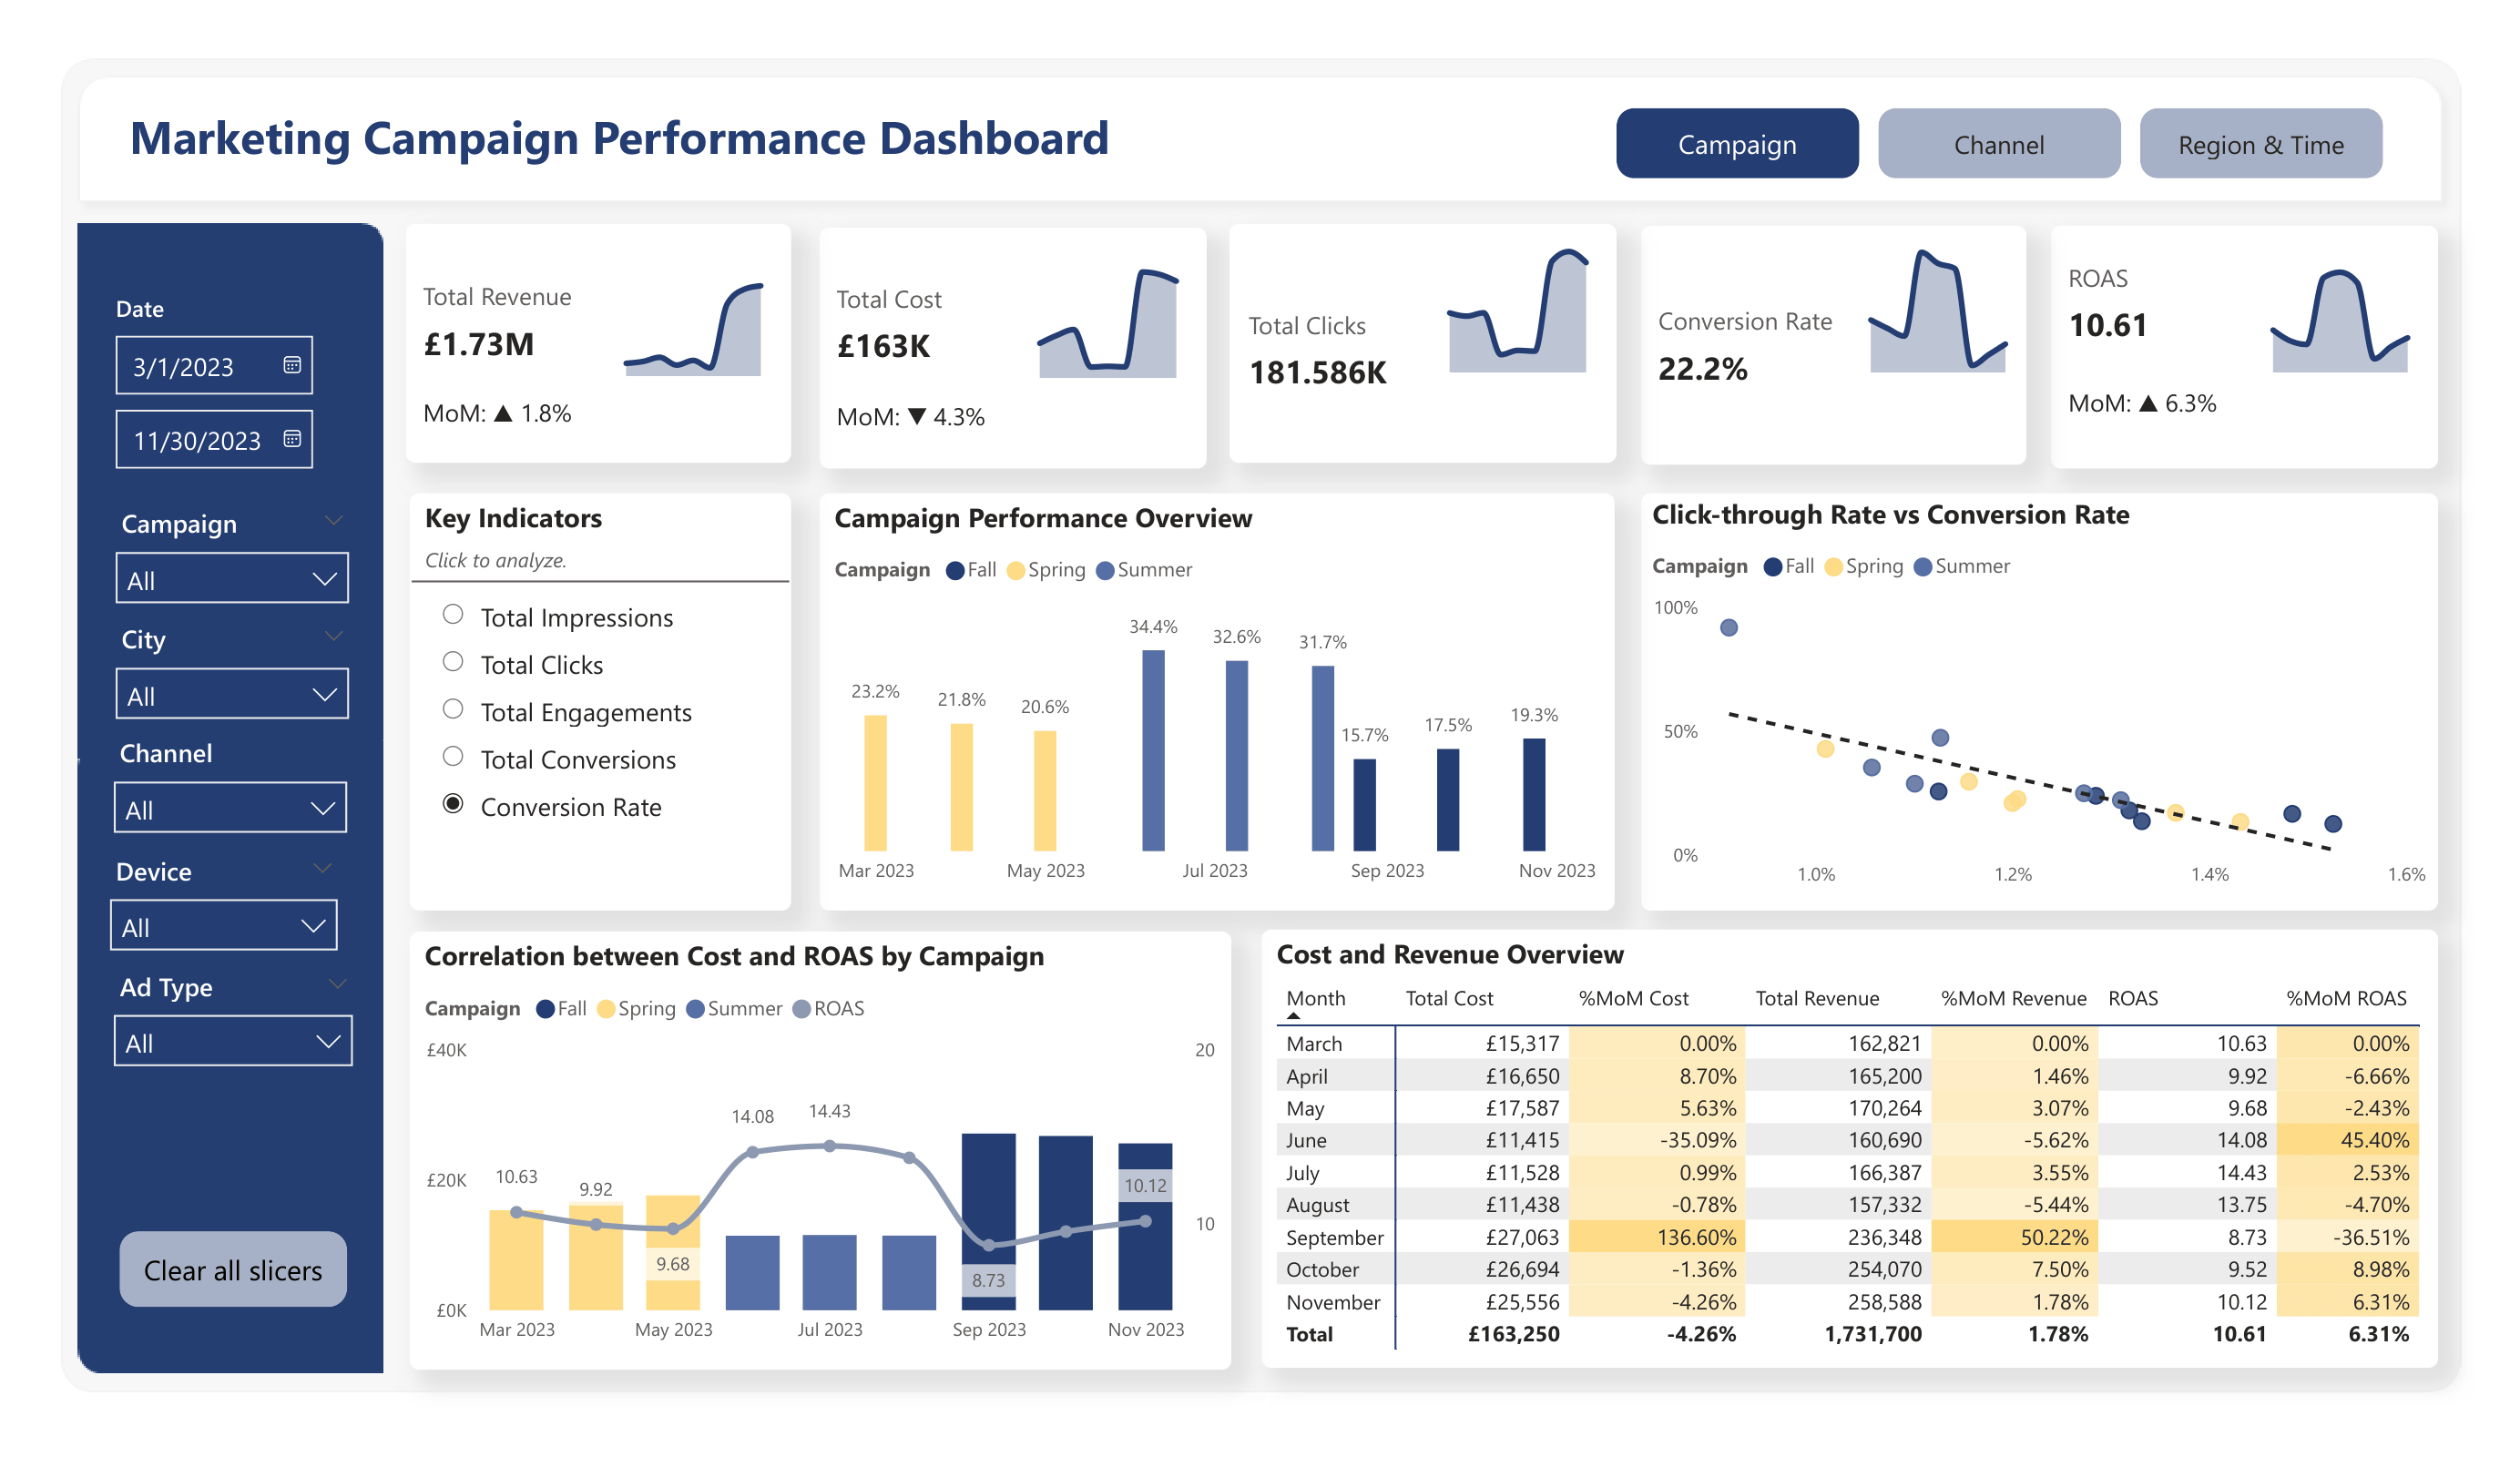

What the dashboard file says about the page in this screenshot:
{"tool":"powerbi","page":{"name":"Campaign","canvas":[1280,720],"ordinal":0},"visuals":[{"type":"textbox","title":"Title","box":[39,26,772.6,43.9],"z":0},{"type":"slicer","title":"Filter Shipping Partner","fields":{"Values":["dim_ad.Ad_Format"]},"box":[25.6,482.5,146.4,83],"z":0,"group":"g2"},{"type":"shape","box":[408.3,96,203.3,126.9],"z":1000},{"type":"slicer","title":"Filter Product Name","fields":{"Values":["dim_device.Device_Name"]},"box":[24,421.1,139.9,84.6],"z":1000,"group":"g2"},{"type":"pageNavigator","box":[827.9,32.5,405,37.4],"z":2000,"group":"g1"},{"type":"shape","box":[1057.3,94.7,204,128],"z":2000},{"type":"slicer","title":"Filter Product Category","fields":{"Values":["dim_channel.Channel_Name"]},"box":[25.6,359.7,143.1,84.6],"z":2000,"group":"g2"},{"type":"shape","box":[841.3,94.7,202.7,126.7],"z":3000},{"type":"slicer","title":"Filter Region Name","fields":{"Values":["dim_campaign.Campaign"]},"box":[27.3,238.5,143.1,84.6],"z":3000,"group":"g2"},{"type":"slicer","title":"Filter Region State","fields":{"Values":["dim_region.Region_Name"]},"box":[27.3,299.9,143.1,83],"z":4000,"group":"g2"},{"type":"actionButton","box":[39,624.6,120.4,40.7],"z":4000},{"type":"shape","box":[624.1,94,203.6,126.5],"z":5000},{"type":"group","id":"g1","title":"Navigation","box":[827.9,32.5,405,37.4],"z":6000},{"type":"shape","box":[189.9,94.2,202.9,126.1],"z":7000},{"type":"cardVisual","fields":{"Data":["Sum(fact_mkt.Total conversion value, GBP)"]},"box":[190.3,110.6,201.7,109],"z":8000},{"type":"cardVisual","fields":{"Data":["*Metrics.M_ROAS"]},"box":[1057.3,96,203.3,125.2],"z":9000},{"type":"cardVisual","fields":{"Data":["Sum(fact_mkt.Spend, GBP)"]},"box":[408.3,110.6,156.1,112.2],"z":10000},{"type":"cardVisual","fields":{"Data":["Sum(fact_mkt.Clicks)"]},"box":[624.6,96,156.1,126.9],"z":11000},{"type":"cardVisual","fields":{"Data":["*Metrics.M_ConversionRate"]},"box":[840.7,95.1,155.6,125.9],"z":12000},{"type":"areaChart","fields":{"Category":["dim_calendar.StartOfMonth"],"Y":["*Metrics.M_ROAS"]},"box":[1158.7,93.3,101.3,84],"z":13000},{"type":"areaChart","fields":{"Category":["dim_calendar.StartOfMonth"],"Y":["Sum(fact_mkt.Clicks)"]},"box":[725.3,93.3,101.3,84],"z":14000},{"type":"areaChart","fields":{"Category":["dim_calendar.StartOfMonth"],"Y":["*Metrics.M_ConversionRate"]},"box":[946.7,93.3,101.3,84],"z":15000},{"type":"areaChart","fields":{"Y":["Sum(fact_mkt.Total conversion value, GBP)"],"Category":["dim_calendar.StartOfMonth"]},"box":[290.7,94.7,101.3,84],"z":16000},{"type":"areaChart","fields":{"Y":["Sum(fact_mkt.Spend, GBP)"],"Category":["dim_calendar.StartOfMonth"]},"box":[509.3,96,101.3,84],"z":17000},{"type":"scatterChart","title":"Click-through Rate vs Conversion Rate","fields":{"Category":["fact_mkt.Concatenated value"],"Series":["dim_campaign.Campaign"],"X":["Avg(fact_mkt.CTR, %)"],"Y":["*Metrics.M_ConversionRate"]},"box":[840.7,235.6,420.3,220.3],"z":18000},{"type":"clusteredColumnChart","title":"Campaign Performance Overview","fields":{"Y":["*Key Indicators.M_TotalClicks"],"Category":["dim_calendar.StartOfMonth"],"Series":["dim_campaign.Campaign"]},"box":[408.5,235.6,418.6,220.3],"z":19000},{"type":"slicer","title":"Key Indicators","fields":{"Values":["Key Indicators 1.Key Indicators 1"]},"box":[191.5,235.6,201.7,220.3],"z":20000},{"type":"slicer","title":"Date","fields":{"Values":["dim_calendar.Date"]},"box":[24.1,125.1,149.6,143.1],"z":21000},{"type":"group","id":"g2","title":"Group 1","box":[24,238.5,148,326.9],"z":22000},{"type":"pivotTable","title":"Cost and Revenue Overview","fields":{"Rows":["dim_calendar.Date.Variation.Date Hierarchy.Month"],"Values":["Sum(fact_mkt.Spend, GBP)","*MoM_Metrics.M_TotalCost_MoM","*Metrics.M_TotalConversionValue","*MoM_Metrics.M_Total Revenue_MoM","*Metrics.M_ROAS","*MoM_Metrics.M_ROAS_MoM"]},"box":[640.7,466.1,620.3,230.5],"z":23000},{"type":"lineStackedColumnComboChart","title":"Correlation between Cost and ROAS by Campaign","fields":{"Y":["Sum(fact_mkt.Spend, GBP)"],"Y2":["*Metrics.M_ROAS"],"Category":["dim_calendar.StartOfMonth"],"Series":["dim_campaign.Campaign"]},"box":[191.9,466.8,432.7,231],"z":24000}]}

Visuals, with their boxes on the page's 1280x720 design canvas (x1, y1, x2, y2). These are canvas units, not pixel positions in the 2520x1457 screenshot, which may show the page scaled, cropped or inside an application window:
"Title" textbox: [left=39, top=26, right=812, bottom=70]
"Filter Shipping Partner" slicer: [left=26, top=482, right=172, bottom=566]
shape: [left=408, top=96, right=612, bottom=223]
"Filter Product Name" slicer: [left=24, top=421, right=164, bottom=506]
pageNavigator: [left=828, top=32, right=1233, bottom=70]
shape: [left=1057, top=95, right=1261, bottom=223]
"Filter Product Category" slicer: [left=26, top=360, right=169, bottom=444]
shape: [left=841, top=95, right=1044, bottom=221]
"Filter Region Name" slicer: [left=27, top=238, right=170, bottom=323]
"Filter Region State" slicer: [left=27, top=300, right=170, bottom=383]
actionButton: [left=39, top=625, right=159, bottom=665]
shape: [left=624, top=94, right=828, bottom=220]
"Navigation" group: [left=828, top=32, right=1233, bottom=70]
shape: [left=190, top=94, right=393, bottom=220]
cardVisual - Sum(fact_mkt.Total conversion value, GBP): [left=190, top=111, right=392, bottom=220]
cardVisual - *Metrics.M_ROAS: [left=1057, top=96, right=1261, bottom=221]
cardVisual - Sum(fact_mkt.Spend, GBP): [left=408, top=111, right=564, bottom=223]
cardVisual - Sum(fact_mkt.Clicks): [left=625, top=96, right=781, bottom=223]
cardVisual - *Metrics.M_ConversionRate: [left=841, top=95, right=996, bottom=221]
areaChart - dim_calendar.StartOfMonth x *Metrics.M_ROAS: [left=1159, top=93, right=1260, bottom=177]
areaChart - dim_calendar.StartOfMonth x Sum(fact_mkt.Clicks): [left=725, top=93, right=827, bottom=177]
areaChart - dim_calendar.StartOfMonth x *Metrics.M_ConversionRate: [left=947, top=93, right=1048, bottom=177]
areaChart - Sum(fact_mkt.Total conversion value, GBP) x dim_calendar.StartOfMonth: [left=291, top=95, right=392, bottom=179]
areaChart - Sum(fact_mkt.Spend, GBP) x dim_calendar.StartOfMonth: [left=509, top=96, right=611, bottom=180]
"Click-through Rate vs Conversion Rate" scatterChart: [left=841, top=236, right=1261, bottom=456]
"Campaign Performance Overview" clusteredColumnChart: [left=408, top=236, right=827, bottom=456]
"Key Indicators" slicer: [left=192, top=236, right=393, bottom=456]
"Date" slicer: [left=24, top=125, right=174, bottom=268]
"Group 1" group: [left=24, top=238, right=172, bottom=565]
"Cost and Revenue Overview" pivotTable: [left=641, top=466, right=1261, bottom=697]
"Correlation between Cost and ROAS by Campaign" lineStackedColumnComboChart: [left=192, top=467, right=625, bottom=698]
